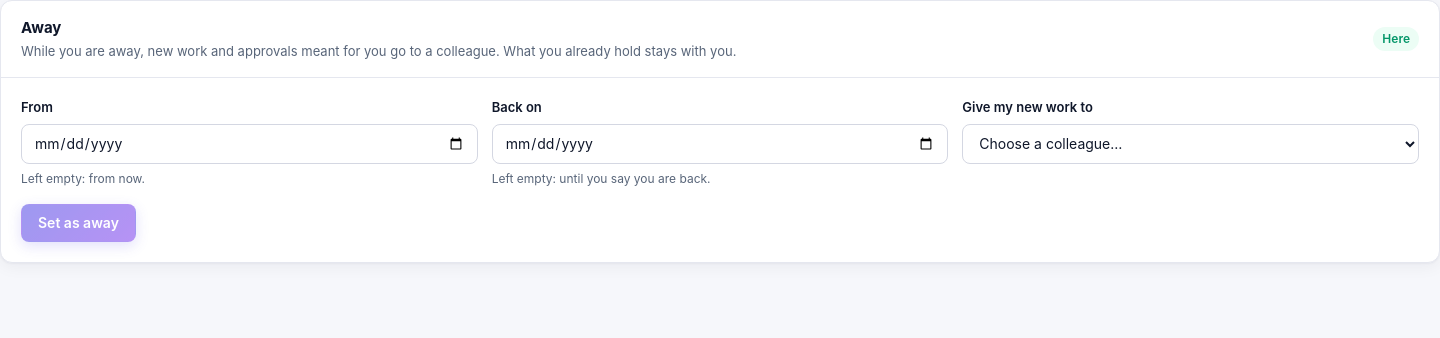
saying I am away › what the server refuses is said in its words
The width and height of the screenshot is (1440, 338).
Select "Sam" in the dropdown labelled "Give my new work to": (1191, 144) [962,124,1419,164]
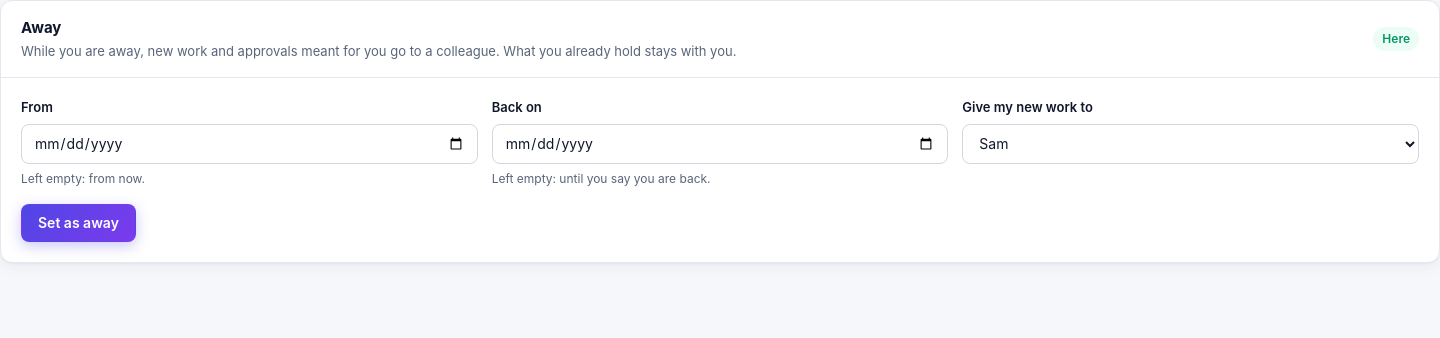
Click the button "Set as away": click(78, 222) [21,204,136,242]
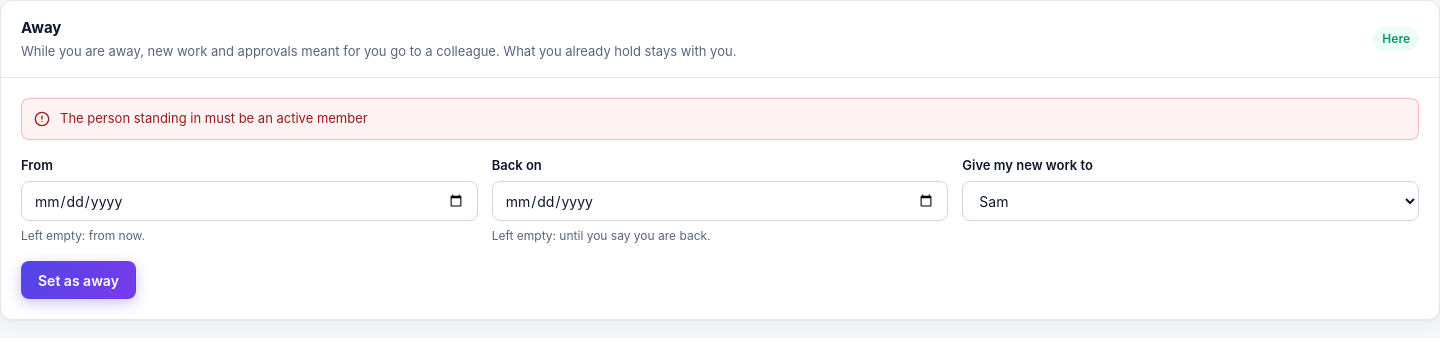
Expected: the text "The person standing in must be an active member" is shown, [60,109,368,128]
